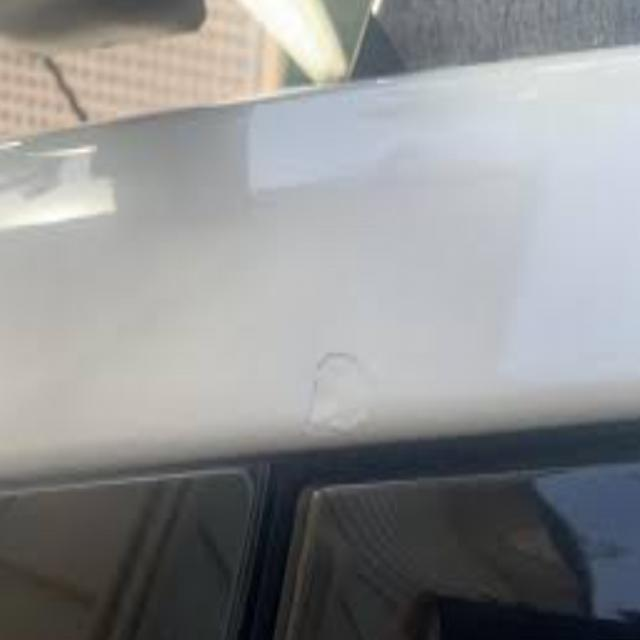dents: (296, 328, 392, 452)
